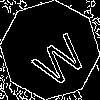W: (25, 25, 90, 90)
